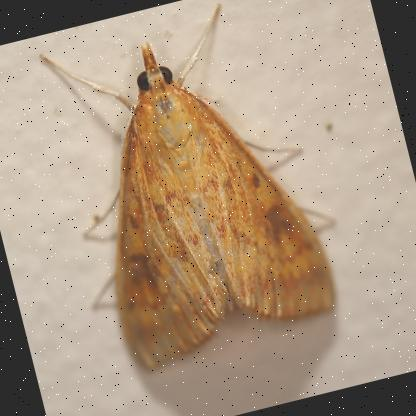Asian Corn Borer Moth: (25, 0, 366, 387)
